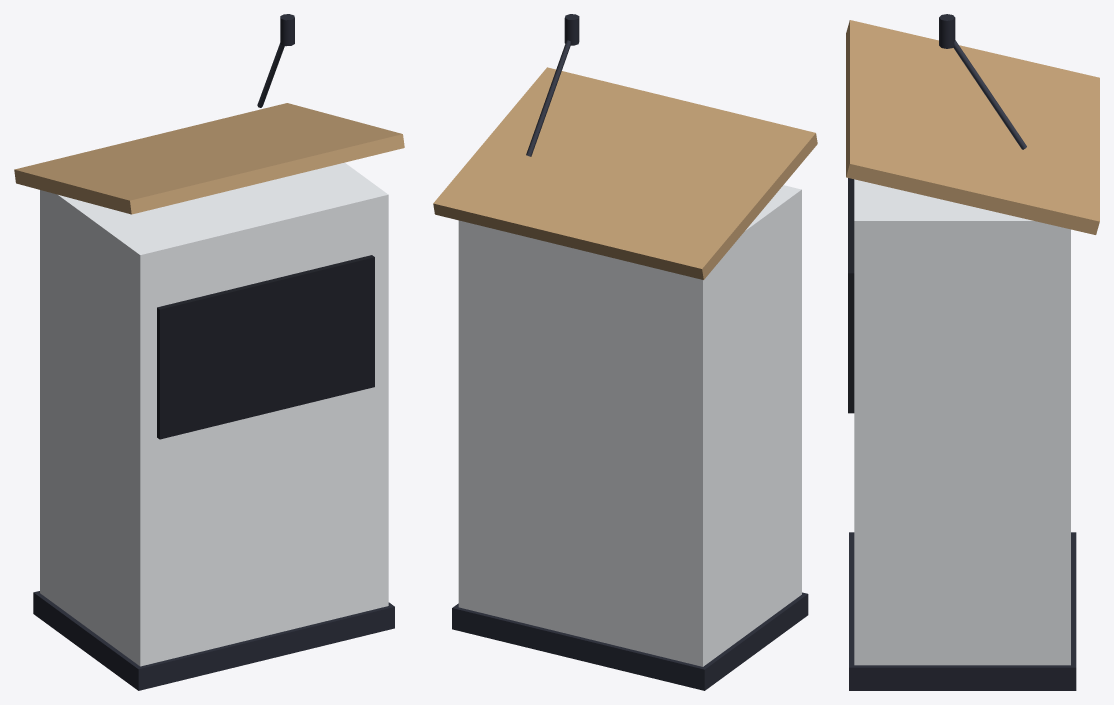
Rendered from evt-010.glb.
3 views of the same model, side by side, from view 1: azimuth 30°, elevation 25°; view 2: azimuth 150°, elevation 25°; view 3: azimuth 270°, elevation 25° (orthographic). The views are drawn at different scales.
Parts seen in each view (by area): view 1: white, sign_panel, oak, plastic_dark; view 2: white, oak, plastic_dark, dark_steel; view 3: white, oak, plastic_dark, sign_panel, dark_steel.
Boxes of the visible parts, box(x1,y1,x2,y2) form: white: box(40, 162, 388, 666); sign_panel: box(157, 255, 374, 439); oak: box(14, 103, 404, 214); plastic_dark: box(33, 14, 394, 690); white: box(458, 185, 801, 666); oak: box(433, 67, 817, 279); plastic_dark: box(452, 14, 808, 690); dark_steel: box(526, 40, 570, 156); white: box(854, 179, 1070, 665); oak: box(846, 20, 1099, 234); plastic_dark: box(849, 14, 1076, 690); sign_panel: box(848, 178, 854, 413); dark_steel: box(953, 40, 1026, 149).
Bounding box in the file's own units: 0.66 × 1.37 × 0.4919.
